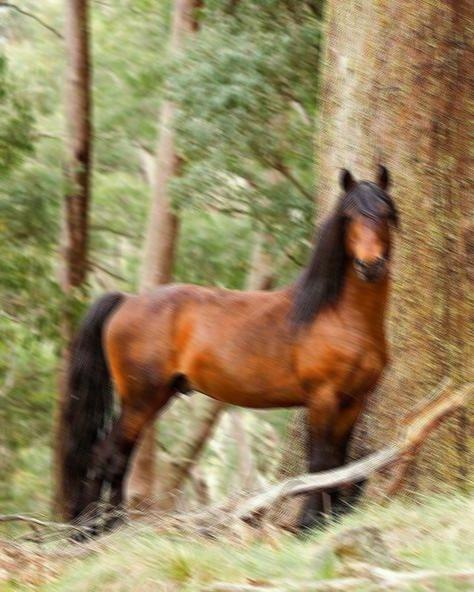horse: (50, 163, 400, 542)
